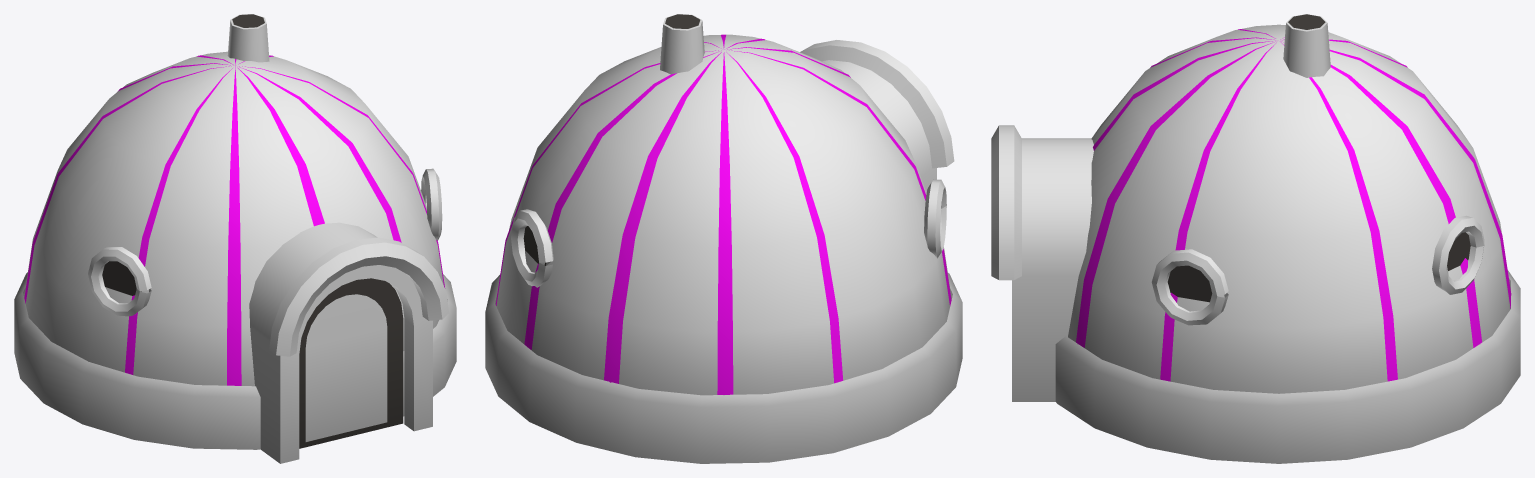
The model's file is velothi_hut_small.glb.
The picture shows the model from 3 angles, left to right: view 1: azimuth 30°, elevation 25°; view 2: azimuth 150°, elevation 25°; view 3: azimuth 270°, elevation 25°; orthographic projection. The views are drawn at different scales.
Visible parts, largest first — view 1: velothi_hut_small, velothi_hut_small_hull; view 2: velothi_hut_small, velothi_hut_small_hull; view 3: velothi_hut_small, velothi_hut_small_hull.
Boxes of the visible parts, <box> form: velothi_hut_small: <box>14,14,456,463</box>; velothi_hut_small_hull: <box>24,55,445,385</box>; velothi_hut_small: <box>485,14,962,463</box>; velothi_hut_small_hull: <box>495,34,951,394</box>; velothi_hut_small: <box>991,14,1520,463</box>; velothi_hut_small_hull: <box>1076,29,1511,381</box>.
Size of the model in its own units: 7.04 by 5.61 by 7.63.
